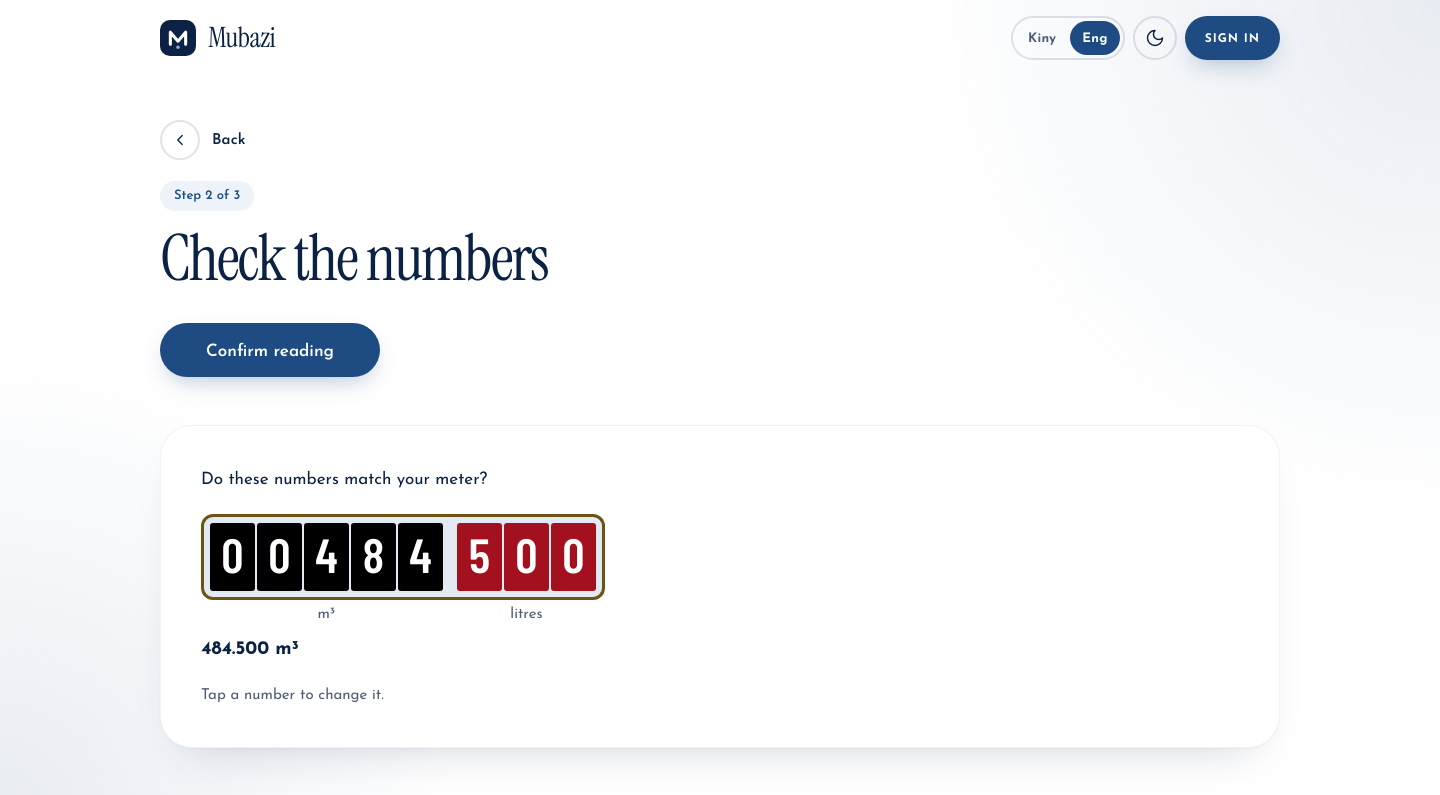
Test: ConfirmReading › when the reason is first_reading, should say so in plain words
The image size is (1440, 795).
Click the button "Confirm reading" at {"x": 270, "y": 350}, box [160,323,380,377]
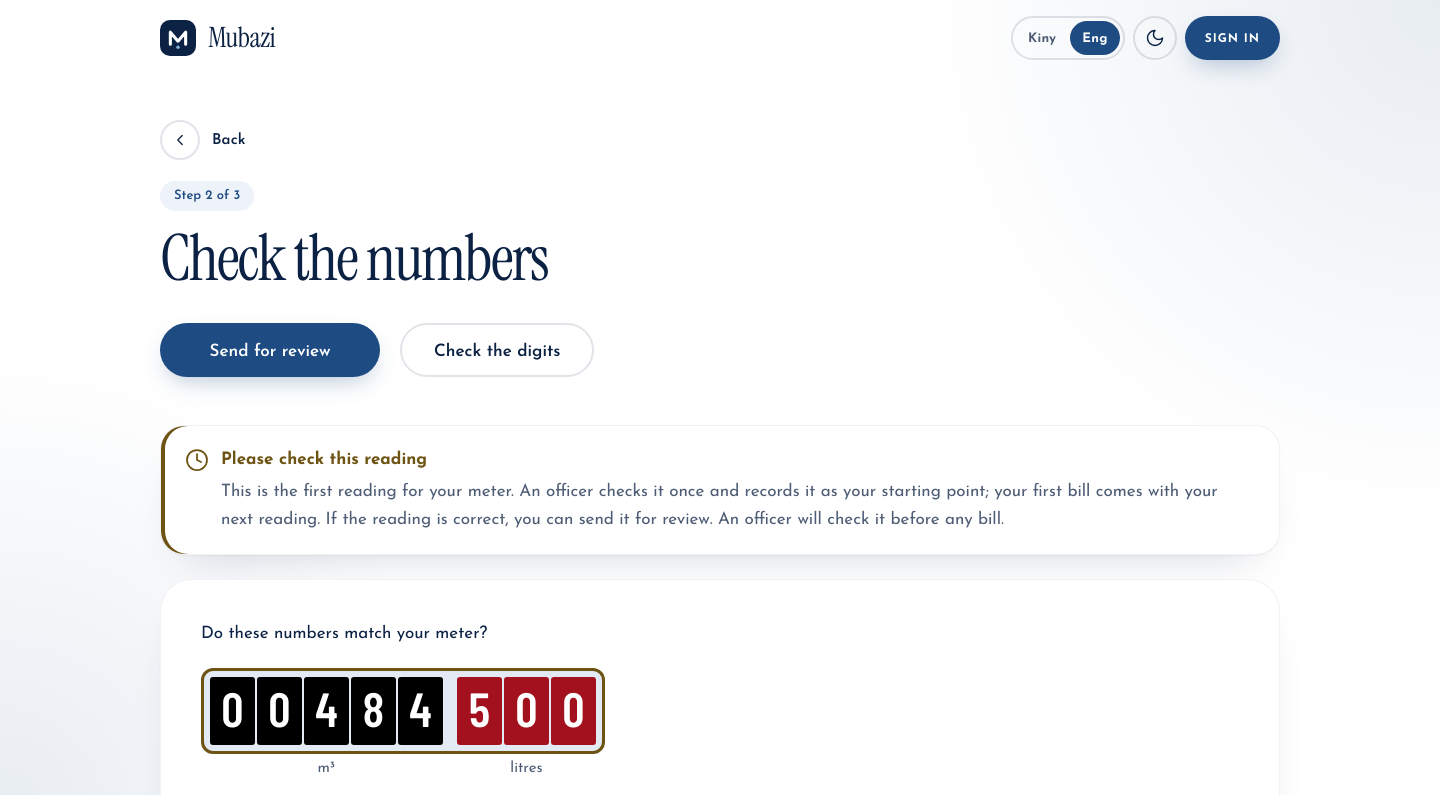
Now the message shows "first reading for your meter", box [221,483,1218,528]
